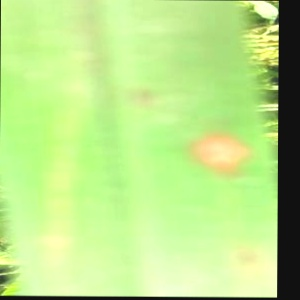Brown_Spot: (182, 117, 258, 202)
